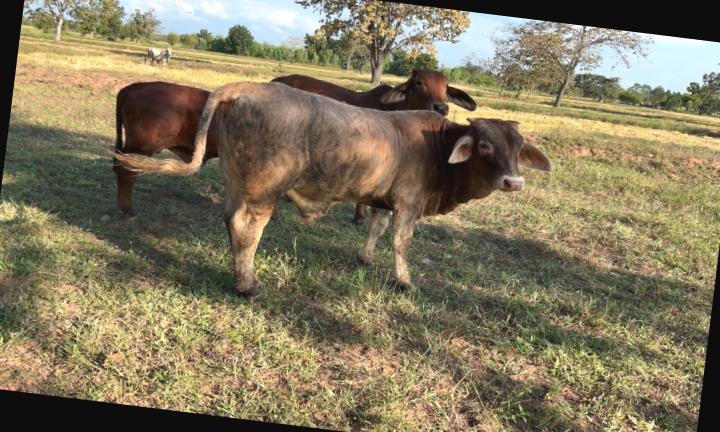Charolais: (194, 81, 551, 297)
